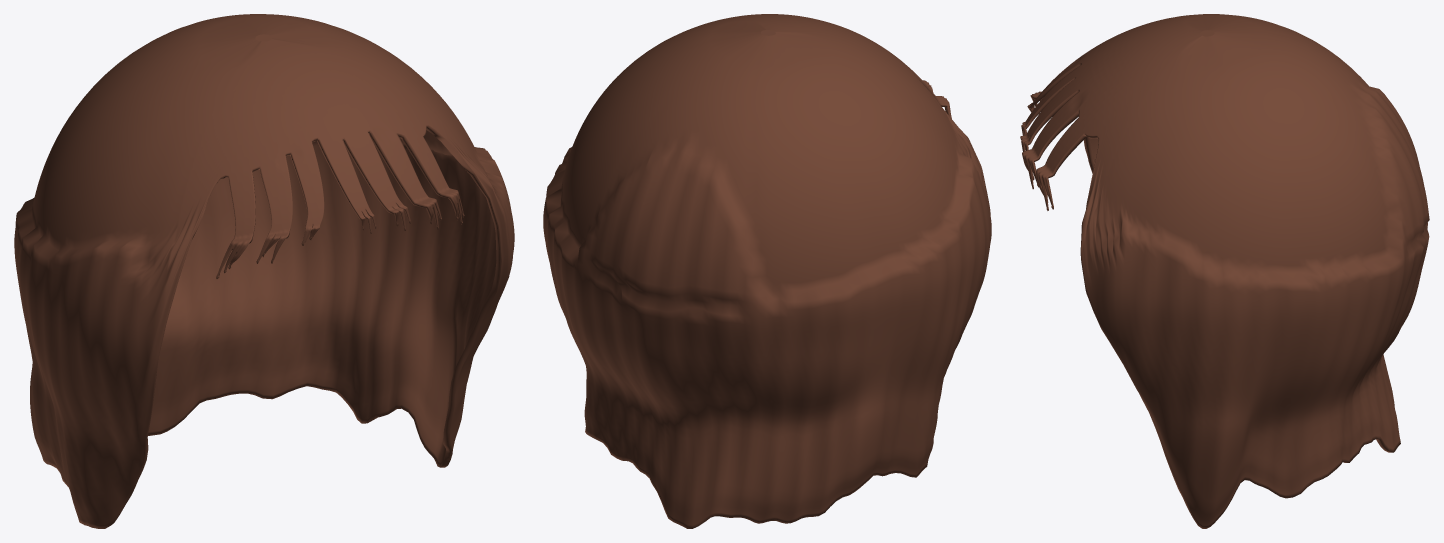
Rendered from side-sweep-cap.glb.
The picture shows the model from 3 angles, left to right: view 1: azimuth 30°, elevation 25°; view 2: azimuth 150°, elevation 25°; view 3: azimuth 270°, elevation 25°; orthographic projection. The views are drawn at different scales.
Parts seen in each view (by area): view 1: Wispy bangs / continuous crown; view 2: Wispy bangs / continuous crown; view 3: Wispy bangs / continuous crown.
Boxes of the visible parts, bbox=[...] form: Wispy bangs / continuous crown: bbox=[14, 14, 514, 528]; Wispy bangs / continuous crown: bbox=[543, 14, 991, 528]; Wispy bangs / continuous crown: bbox=[1020, 14, 1429, 528].
Bounding box in the file's own units: 0.8388 × 0.8705 × 0.7703.
